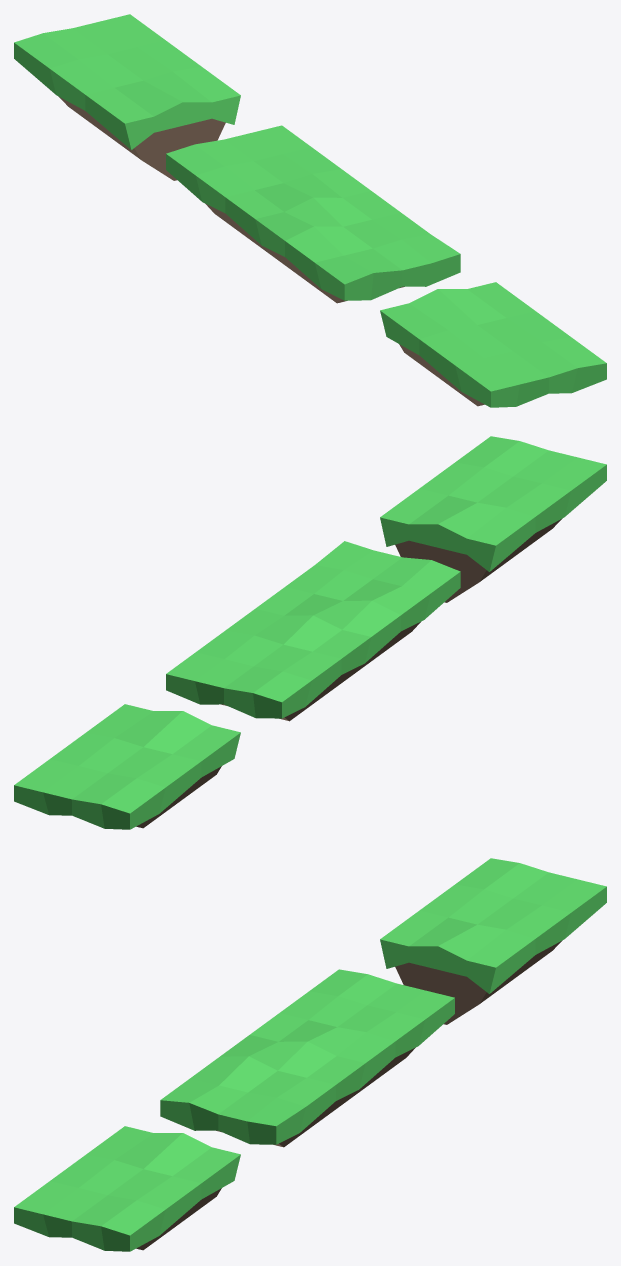
The model's file is Plataformas.fbx.
The picture shows the model from 3 angles, top to bottom: view 1: azimuth 30°, elevation 25°; view 2: azimuth 150°, elevation 25°; view 3: azimuth 330°, elevation 25°; orthographic projection.
Visible parts, largest first — view 1: Cube, Cube.002, Cube.001; view 2: Cube, Cube.001, Cube.002; view 3: Cube, Cube.002, Cube.001.
Part boxes in pixels (bbox=[...]): Cube: bbox=[166, 125, 460, 303]; Cube.002: bbox=[14, 14, 240, 180]; Cube.001: bbox=[380, 282, 606, 407]; Cube: bbox=[166, 541, 460, 721]; Cube.001: bbox=[380, 436, 606, 602]; Cube.002: bbox=[14, 704, 240, 829]; Cube: bbox=[160, 969, 454, 1147]; Cube.002: bbox=[380, 858, 606, 1024]; Cube.001: bbox=[14, 1126, 240, 1251].
Bounding box in the file's own units: 300 × 198 × 2135.
